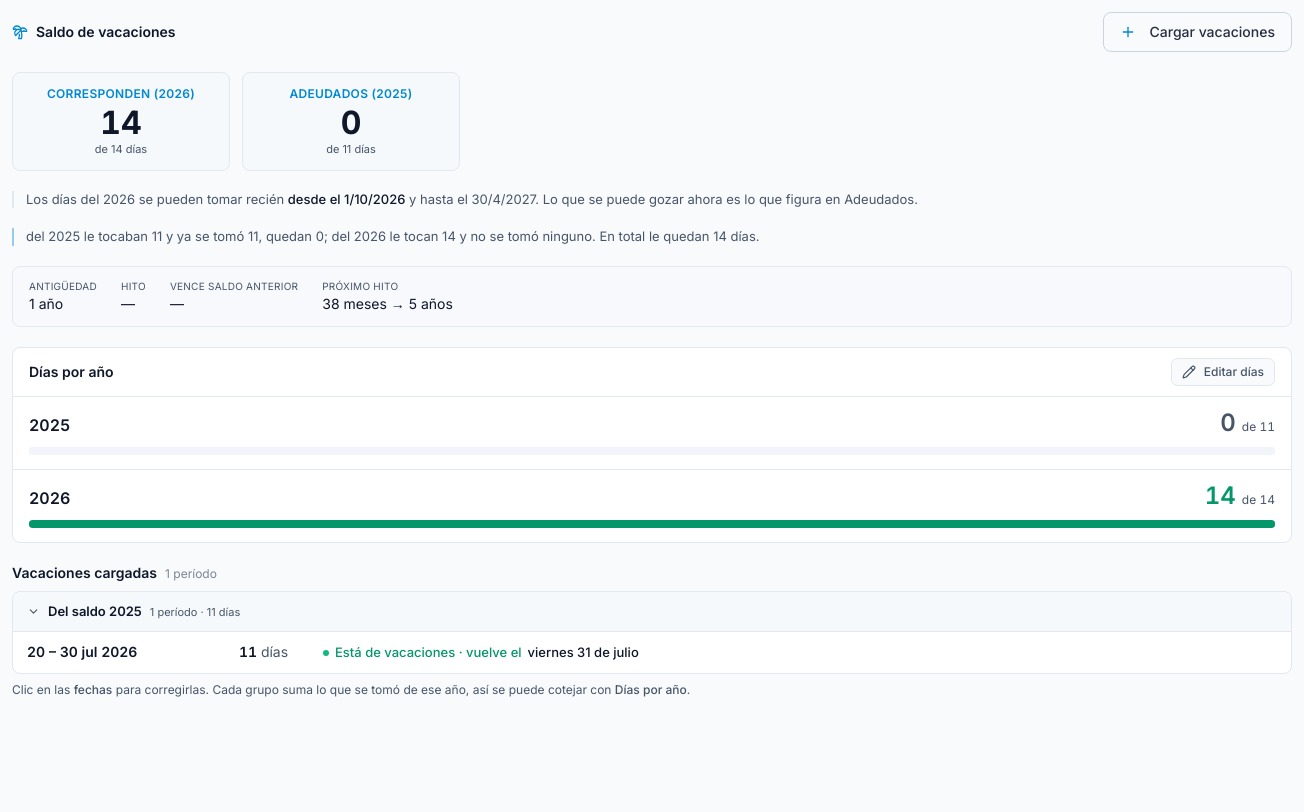
Scenario: ChoferVacacionesTab — corregir fechas del período › no deja guardar un período que termina antes de empezar
Click the button titled "Corregir las fechas" at coordinates (127, 652), box top-left (27, 642), bottom-right (227, 662)
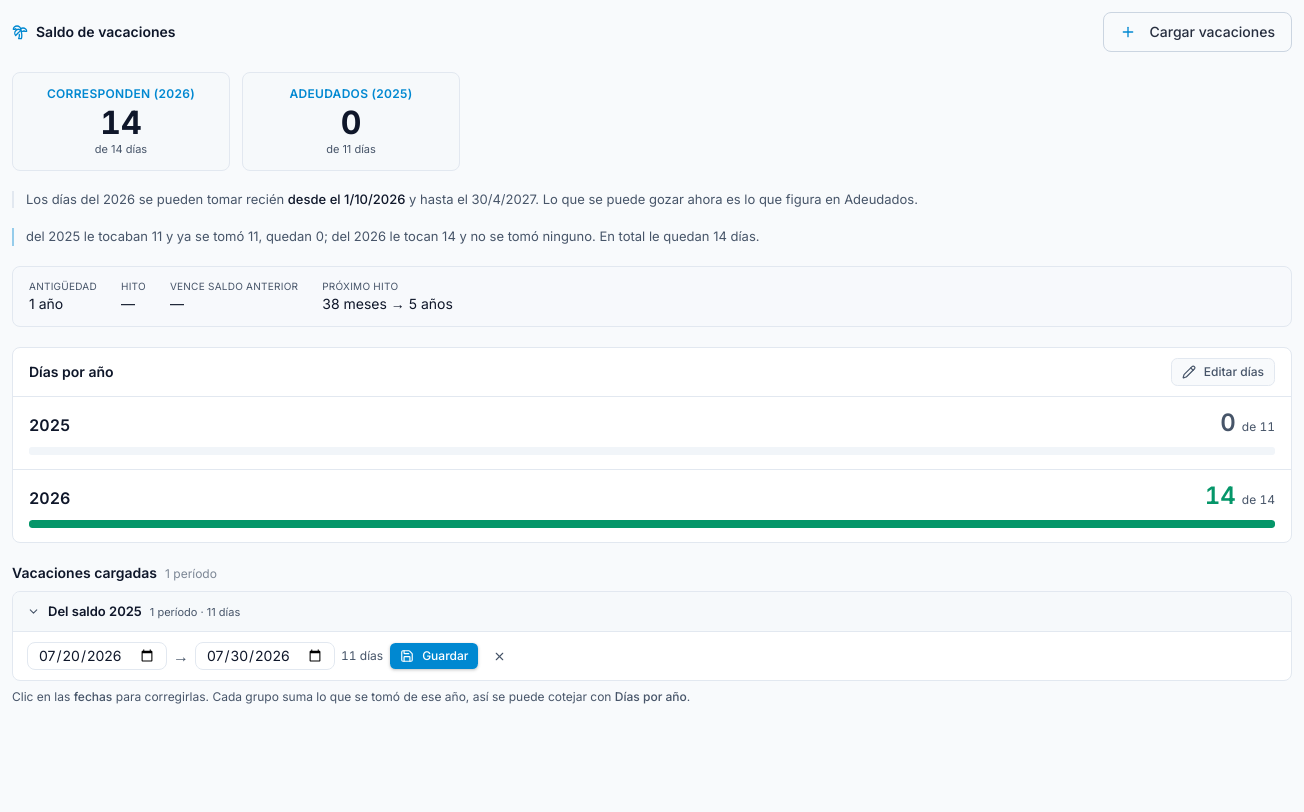
Type "2026-08-10" into the date field named "Desde" at coordinates (97, 656), box top-left (27, 642), bottom-right (167, 670)
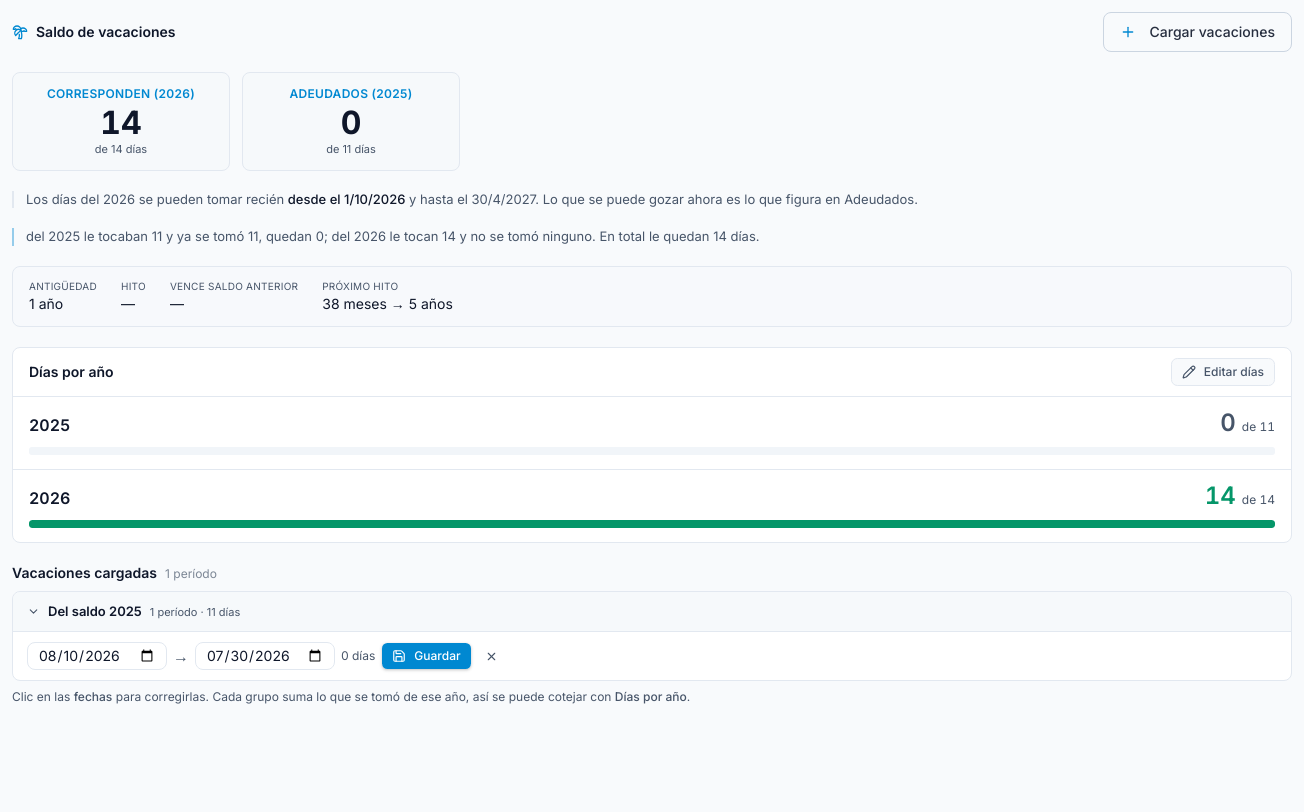
Click the button "Guardar" at coordinates (426, 656), box top-left (381, 642), bottom-right (472, 670)
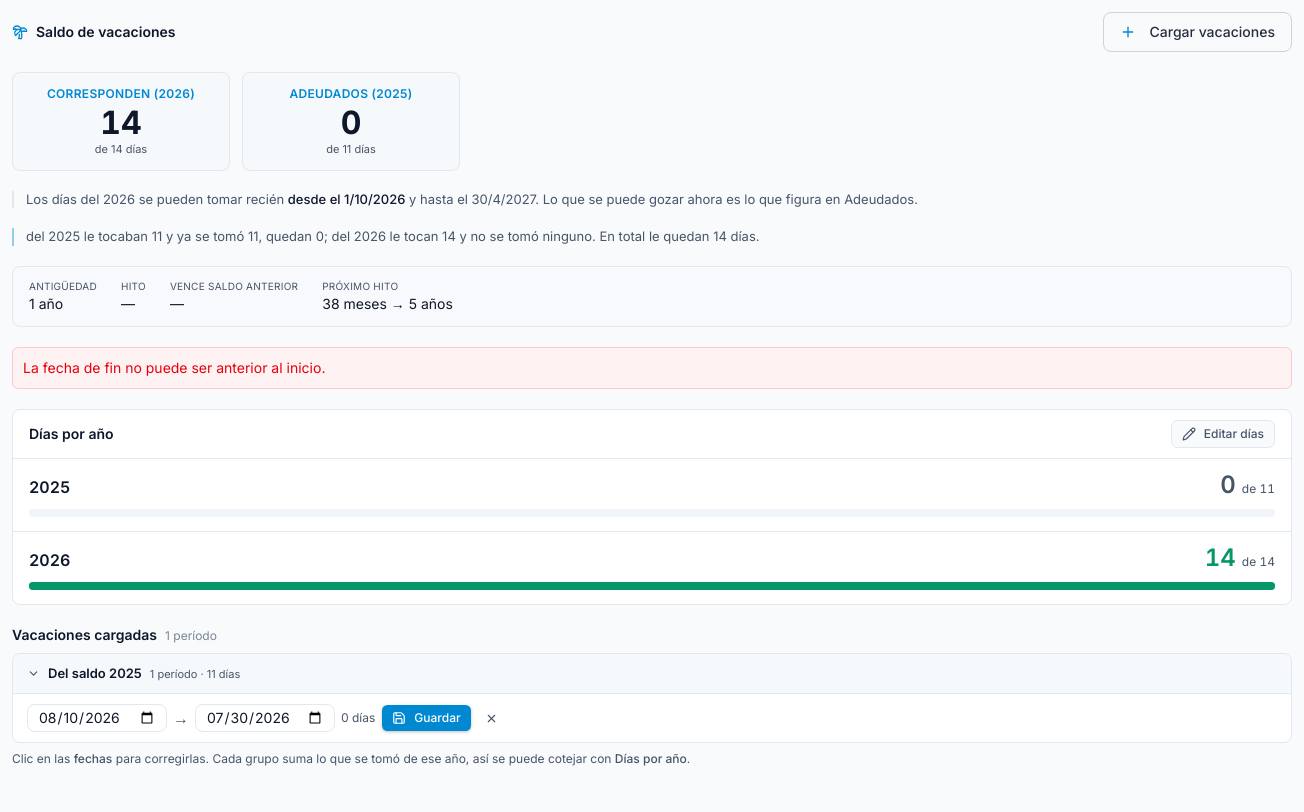
Check: the text "La fecha de fin no puede ser anterior al inicio." is shown, box top-left (12, 346), bottom-right (1292, 388)
